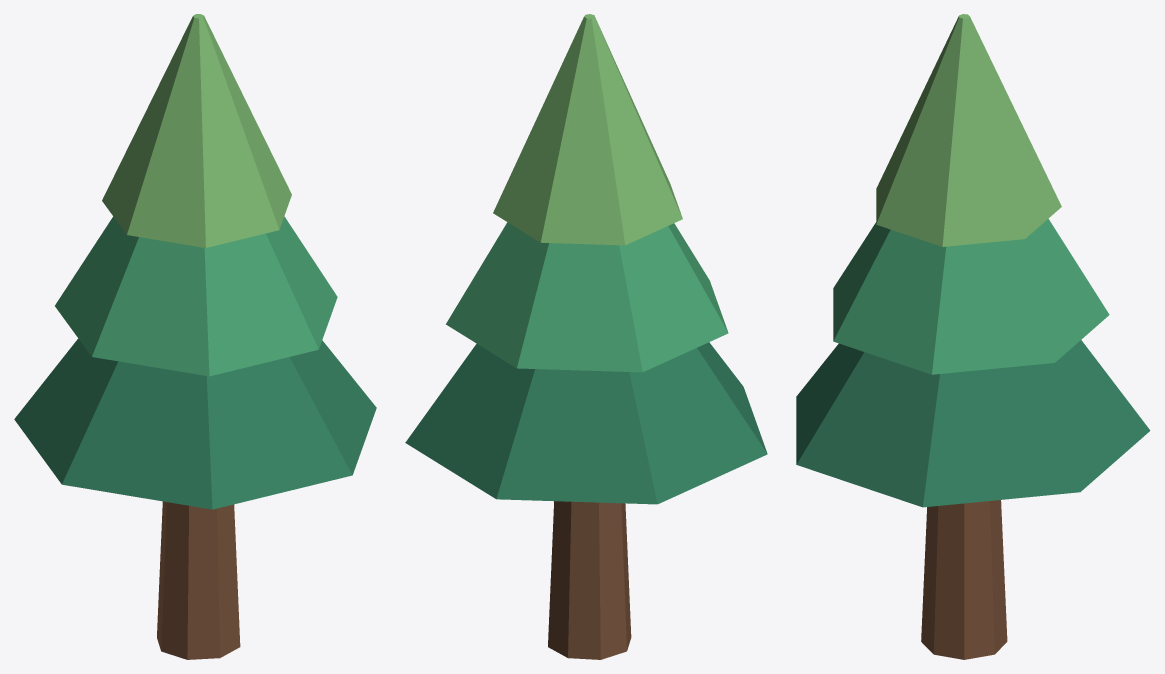
Rendered from arvore-pinho-beco.glb.
The picture shows the model from 3 angles, left to right: view 1: azimuth 30°, elevation 25°; view 2: azimuth 150°, elevation 25°; view 3: azimuth 270°, elevation 25°; orthographic projection.
Visible parts, largest first — view 1: Copa_baixa, Copa_media, Copa_alta, Tronco; view 2: Copa_baixa, Copa_media, Copa_alta, Tronco; view 3: Copa_baixa, Copa_media, Copa_alta, Tronco.
Part boxes in pixels (box(x1,y1,x2,y2)): Copa_baixa: box(14, 338, 376, 509); Copa_media: box(55, 216, 337, 376); Copa_alta: box(102, 14, 291, 247); Tronco: box(157, 501, 240, 659); Copa_baixa: box(405, 342, 767, 504); Copa_media: box(446, 222, 728, 372); Copa_alta: box(493, 14, 682, 245); Tronco: box(548, 501, 631, 659); Copa_baixa: box(796, 340, 1150, 507); Copa_media: box(833, 219, 1109, 374); Copa_alta: box(876, 14, 1061, 246); Tronco: box(921, 500, 1007, 659).
Size of the model in its own units: 3.2 by 6.08 by 3.12.
